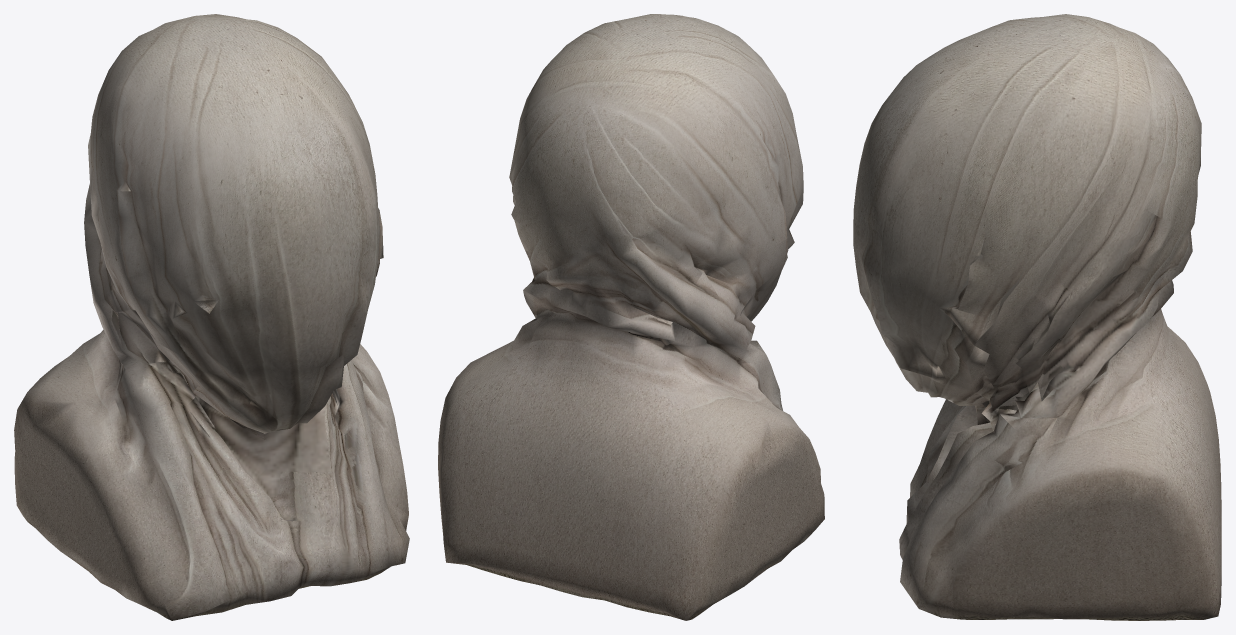
The model's file is Head2_closed_v1.glb.
3 renders of one model, left to right at view 1: azimuth 30°, elevation 25°; view 2: azimuth 150°, elevation 25°; view 3: azimuth 270°, elevation 25°, orthographic. The views are drawn at different scales.
Visible parts, largest first — view 1: texture_mapping; view 2: texture_mapping; view 3: texture_mapping.
Boxes of the visible parts, x1,y1,x2,y2 form: texture_mapping: (14,14,409,620); texture_mapping: (438,14,824,620); texture_mapping: (853,14,1221,620).
Bounding box in the file's own units: 0.6327 × 0.9968 × 0.6325.
Materials: 1 (1 with a texture image).
